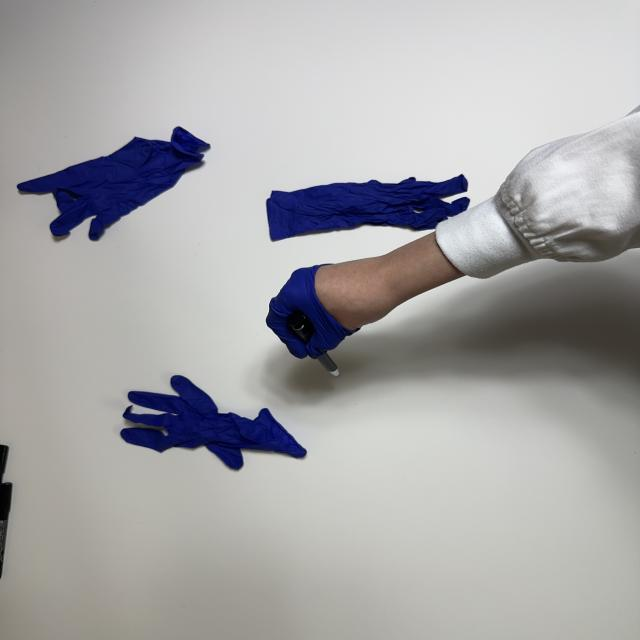glove_not_fitted: (262, 257, 393, 360)
